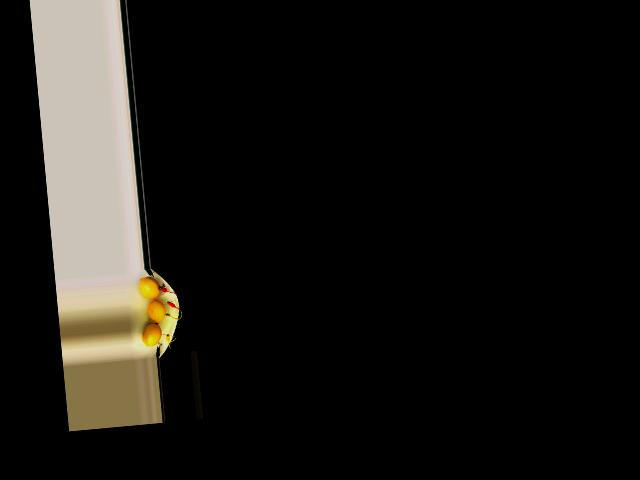lemon: (140, 275, 164, 299)
